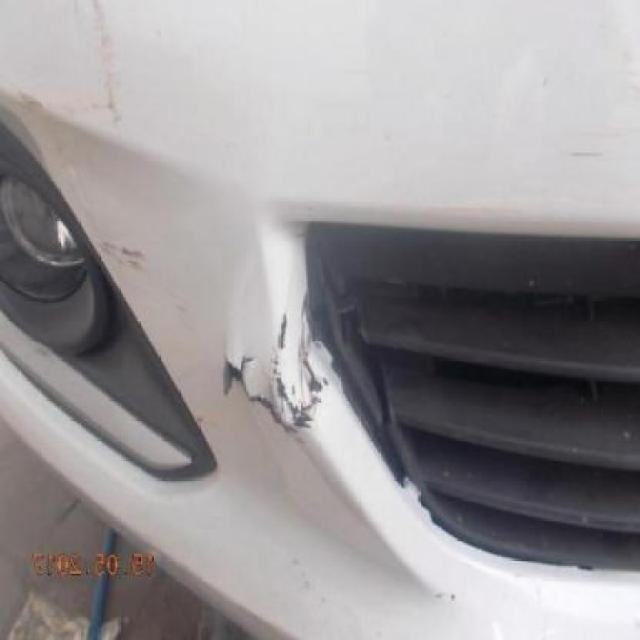damage: (213, 269, 347, 450), (19, 2, 131, 120), (95, 236, 145, 277)
